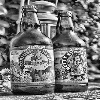beer: (7, 2, 58, 100)
